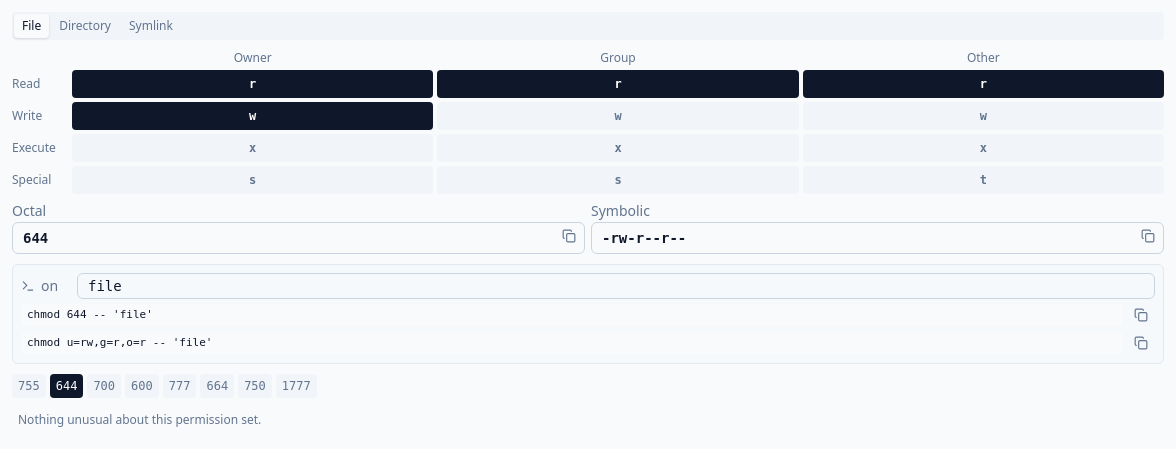
Test: UnixPermissionsWidget › warns when a file is made world-writable
Replace the text in the field labelled "Octal" with "646": [298, 238] box [12,222,585,254]
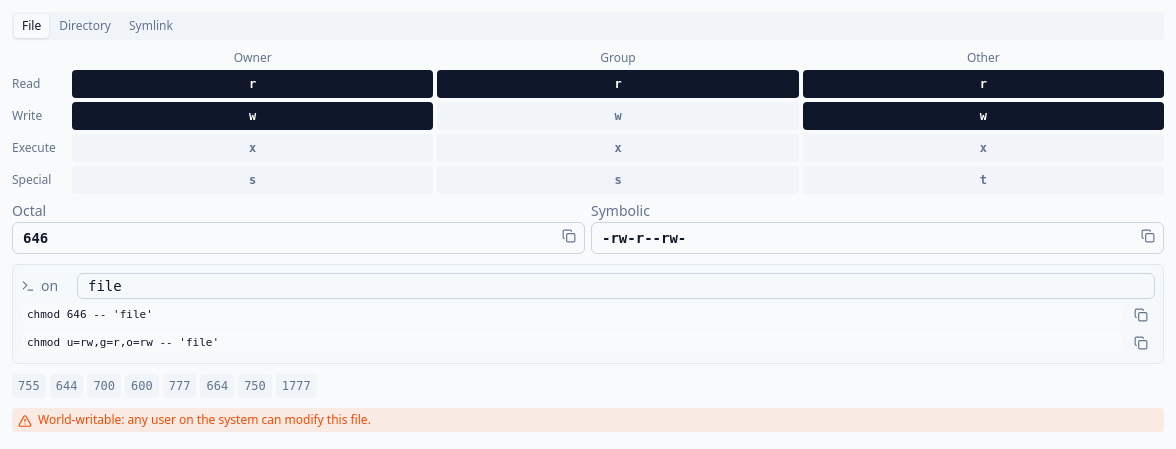
Result: the text "World-writable: any user on the system can modify this file." is shown at [38,412,371,428]
